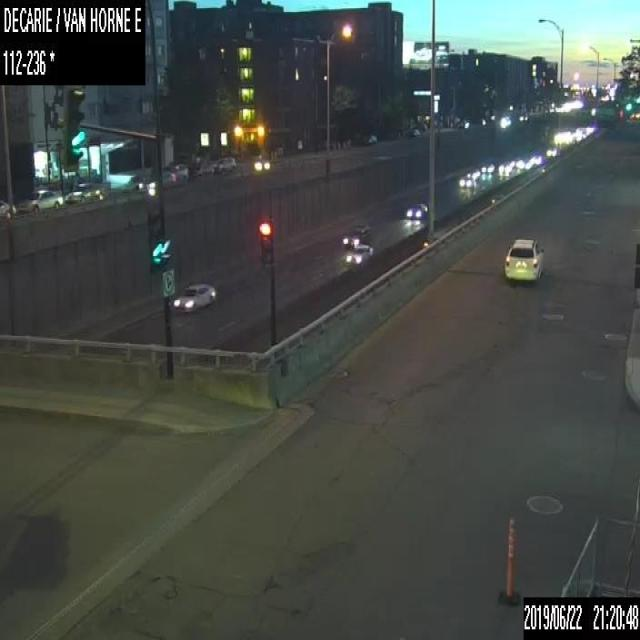construction: (496, 512, 520, 603)
vehicle: (502, 236, 544, 279), (172, 281, 215, 311), (16, 189, 62, 212), (64, 182, 105, 200), (341, 222, 370, 245), (341, 244, 374, 264), (163, 160, 189, 180), (123, 173, 152, 190), (210, 155, 236, 173), (405, 200, 427, 217), (252, 155, 270, 171), (0, 198, 15, 217), (457, 172, 474, 187), (161, 168, 175, 183), (480, 159, 494, 173), (497, 159, 511, 173), (510, 158, 523, 169), (545, 146, 559, 156)
